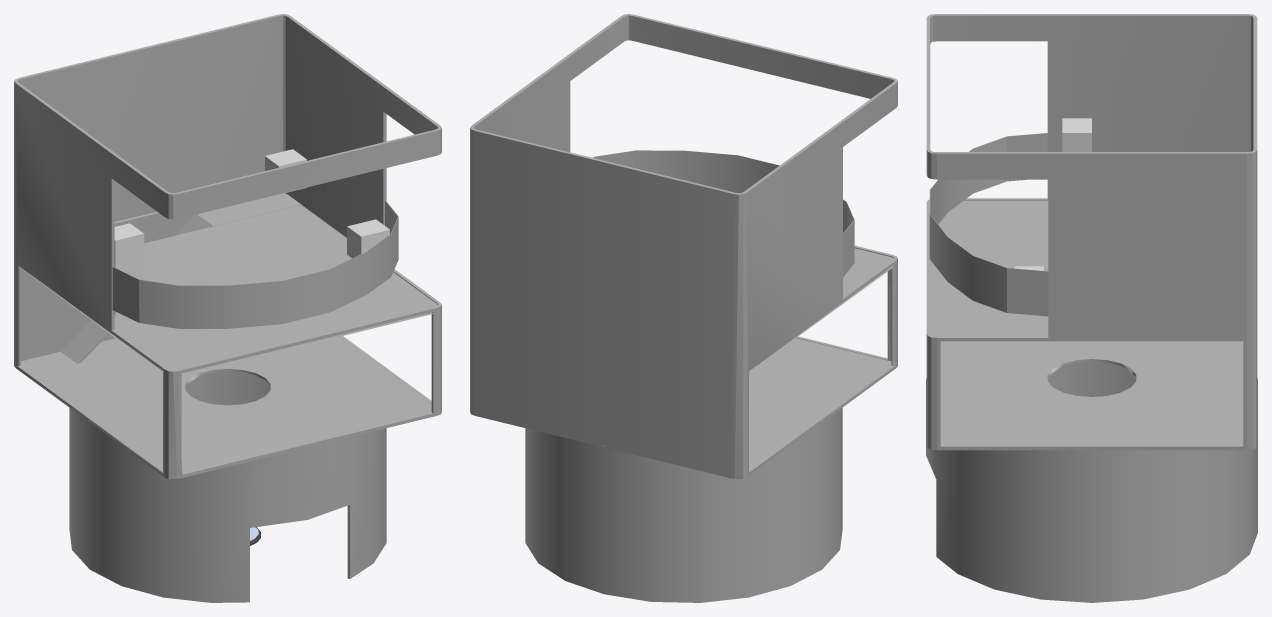
File: p2_col.glb
3 views of the same model, side by side, from view 1: azimuth 30°, elevation 25°; view 2: azimuth 150°, elevation 25°; view 3: azimuth 270°, elevation 25° (orthographic). The views are drawn at different scales.
Parts seen in each view (by area): view 1: pCube3_collider, Cube3_collider, Cube2_collider, Cube_collider; view 2: pCube3_collider; view 3: pCube3_collider, Cube3_collider.
Boxes of the visible parts, bbox=[...] form: pCube3_collider: bbox=[14, 14, 441, 602]; Cube3_collider: bbox=[114, 223, 144, 315]; Cube2_collider: bbox=[347, 219, 389, 258]; Cube_collider: bbox=[265, 149, 306, 194]; pCube3_collider: bbox=[470, 14, 897, 602]; pCube3_collider: bbox=[926, 14, 1257, 602]; Cube3_collider: bbox=[1062, 118, 1091, 151].
Size of the model in its own units: 10.04 by 14.99 by 10.04.
6 materials, 1 textured.
